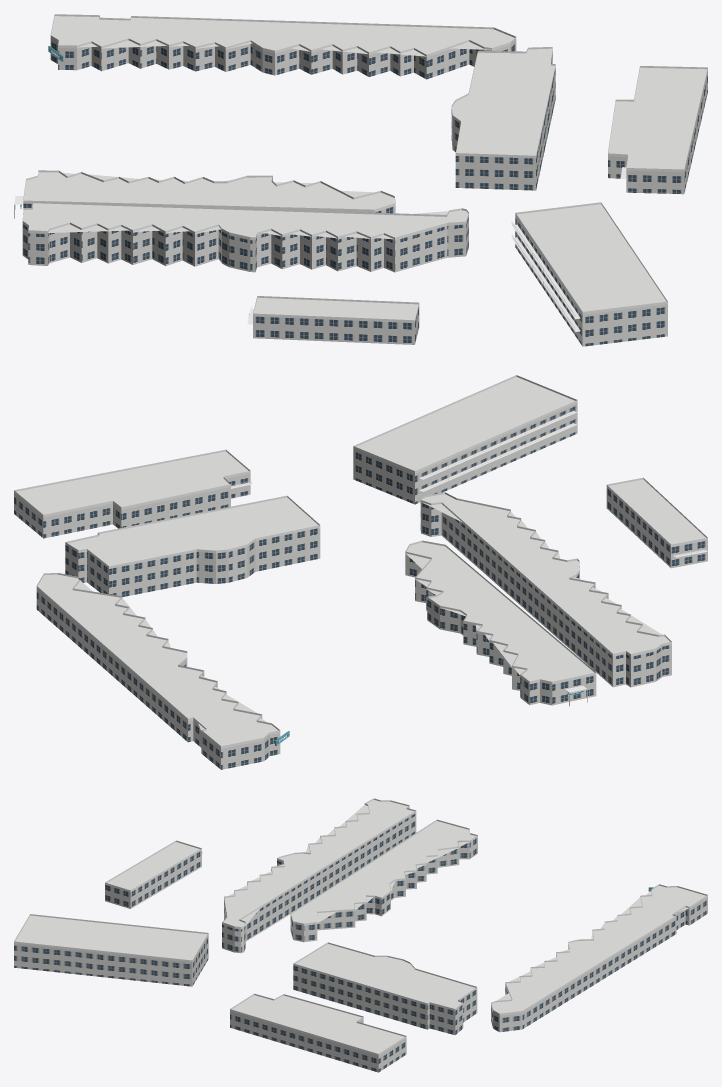
Rendered from oceania.glb.
3 renders of one model, top to bottom at view 1: azimuth 30°, elevation 25°; view 2: azimuth 150°, elevation 25°; view 3: azimuth 270°, elevation 25°, orthographic. The views are drawn at different scales.
Parts seen in each view (by area): view 1: oceania_lod0; view 2: oceania_lod0; view 3: oceania_lod0.
Part boxes in pixels (left/top/right/bottom): oceania_lod0: left=14, top=14, right=707, bottom=346; oceania_lod0: left=14, top=375, right=707, bottom=769; oceania_lod0: left=14, top=798, right=707, bottom=1072.
Size of what is drawn, in the model's own units: 176 by 9.98 by 205.
5 materials, 2 textured.
